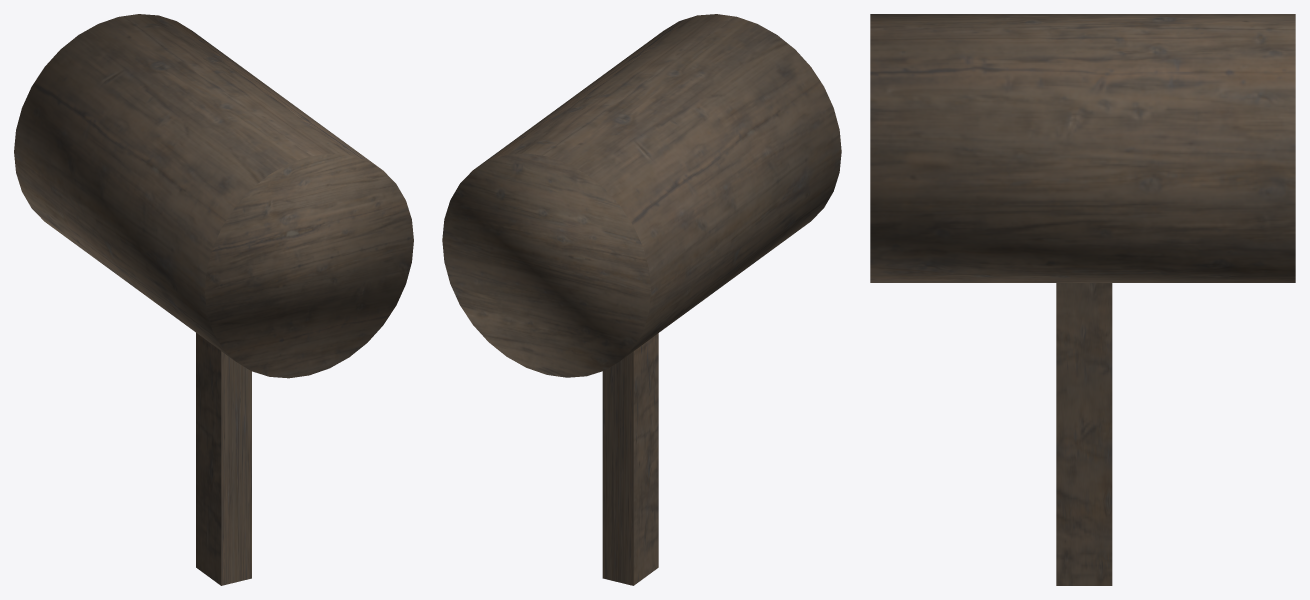
File: hammer.fbx
3 views of the same model, side by side, from view 1: azimuth 30°, elevation 25°; view 2: azimuth 150°, elevation 25°; view 3: azimuth 270°, elevation 25° (orthographic). The views are drawn at different scales.
Parts seen in each view (by area): view 1: Cylinder, Cube; view 2: Cylinder, Cube; view 3: Cylinder, Cube.
Part boxes in pixels (<box>): Cylinder: <box>14,14,413,378</box>; Cube: <box>196,333,251,585</box>; Cylinder: <box>442,14,841,377</box>; Cube: <box>602,333,658,585</box>; Cylinder: <box>870,14,1295,282</box>; Cube: <box>1056,283,1112,585</box>.
Size of the model in its own units: 711 by 1590 by 1124.
